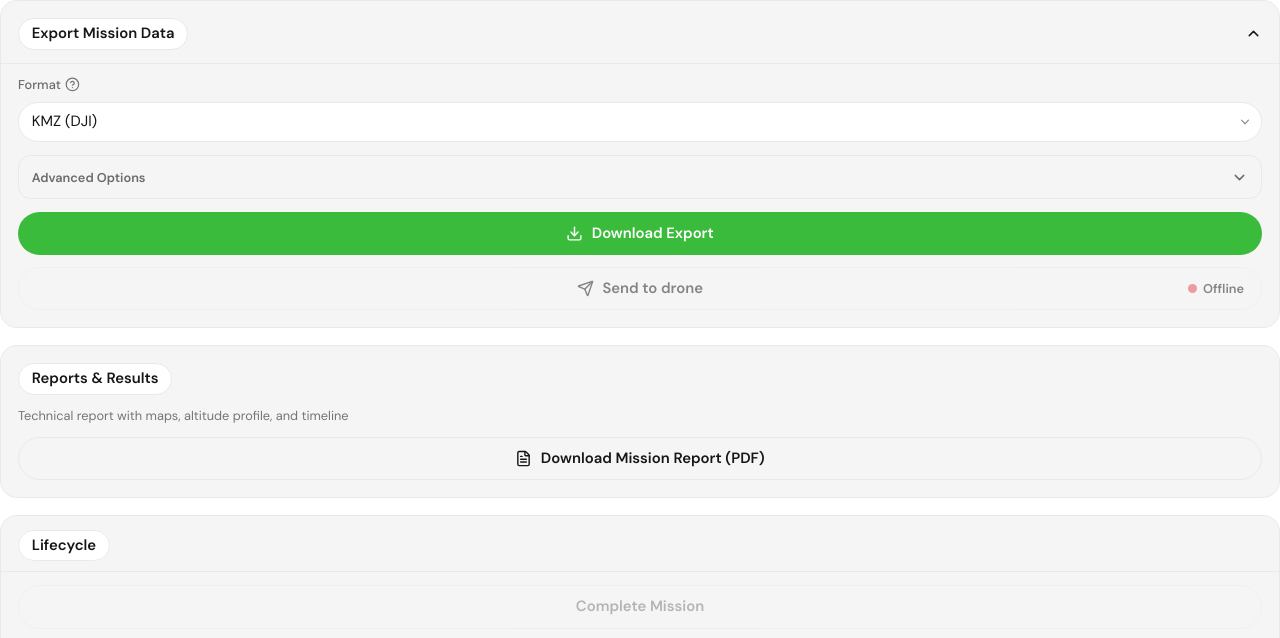
ExportPanel - geozones toggle › hides runway-buffers checkbox until geozones is on, then gates it on mavlink
The image size is (1280, 638).
Click the button with test id "advanced-options-toggle": (89, 177) [32,168,1248,186]
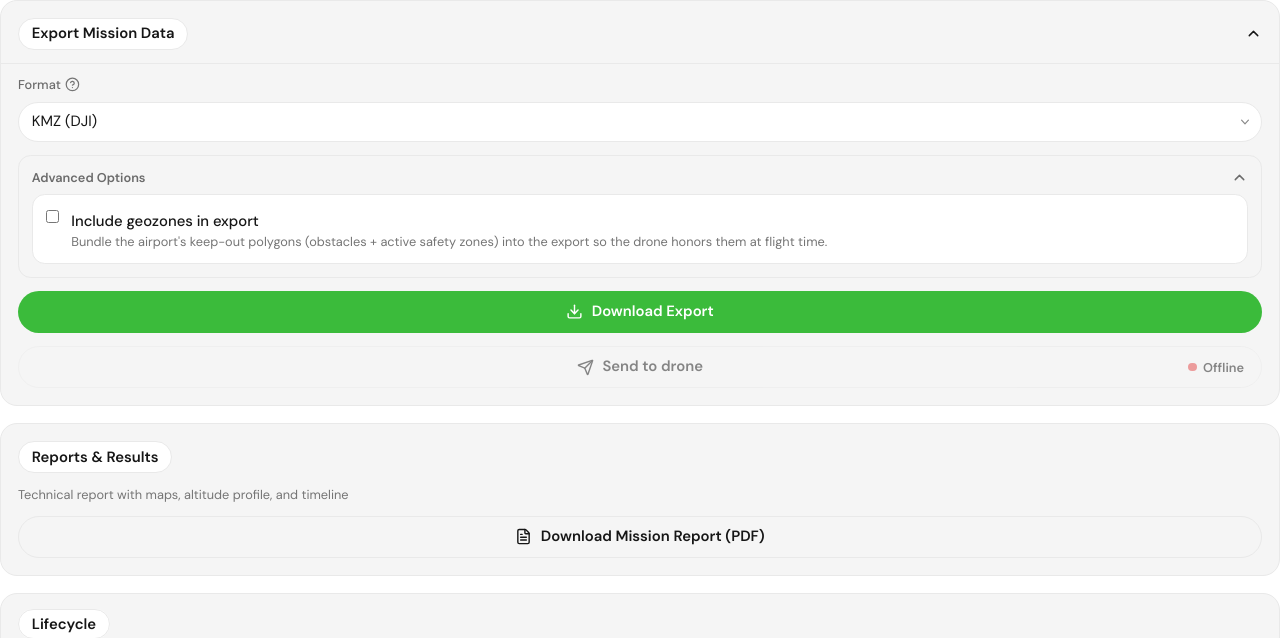
Click the checkbox with test id "include-geozones": (52, 216) [46,210,58,223]
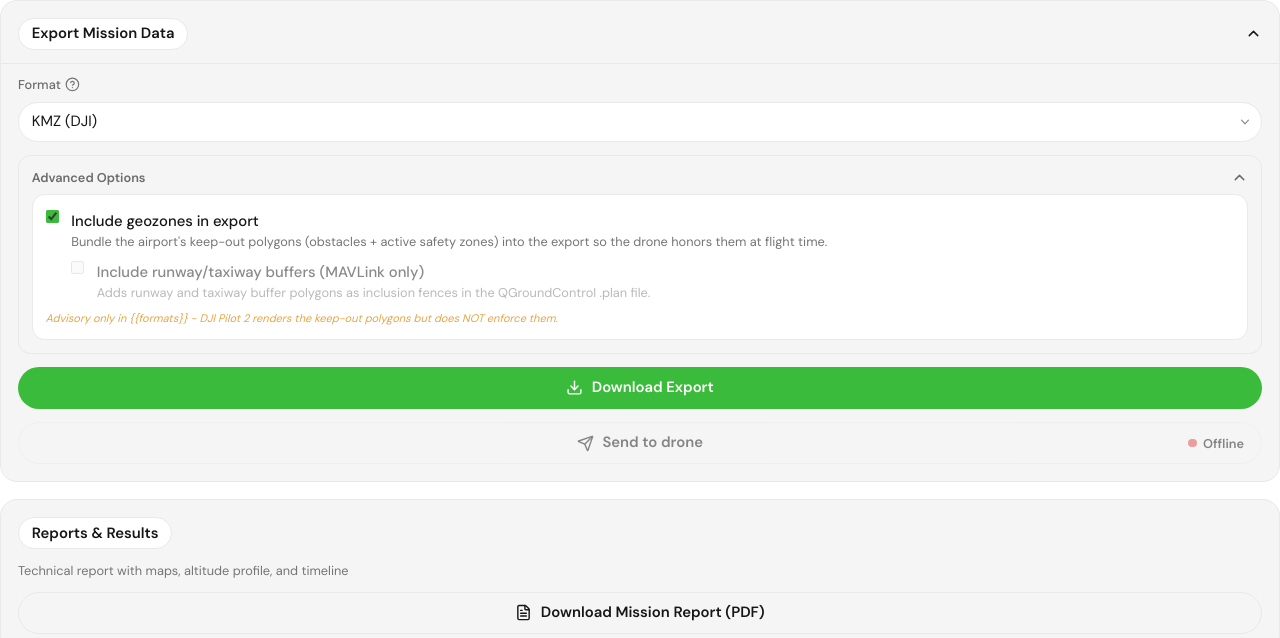
Select "MAVLink" in the dropdown with test id "format-select": (640, 122) [18,102,1262,142]
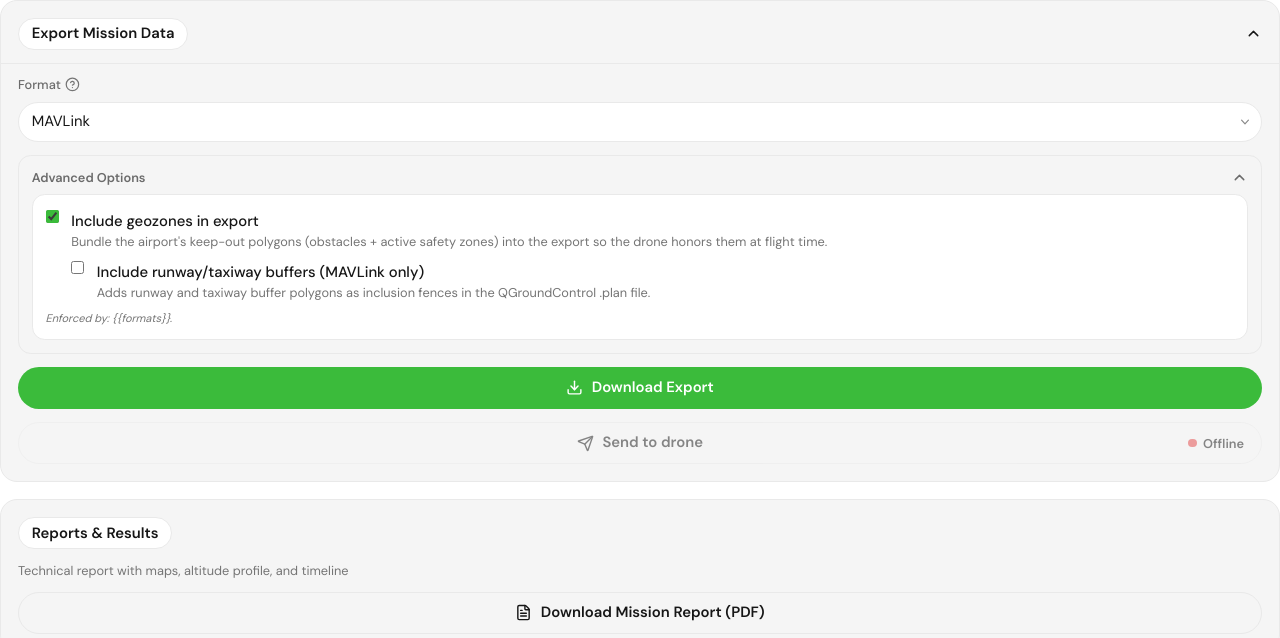
Expected: the checkbox with test id "include-runway-buffers" is enabled, [71,261,84,274]
Click the checkbox with test id "include-geozones": (52, 216) [46,210,58,223]
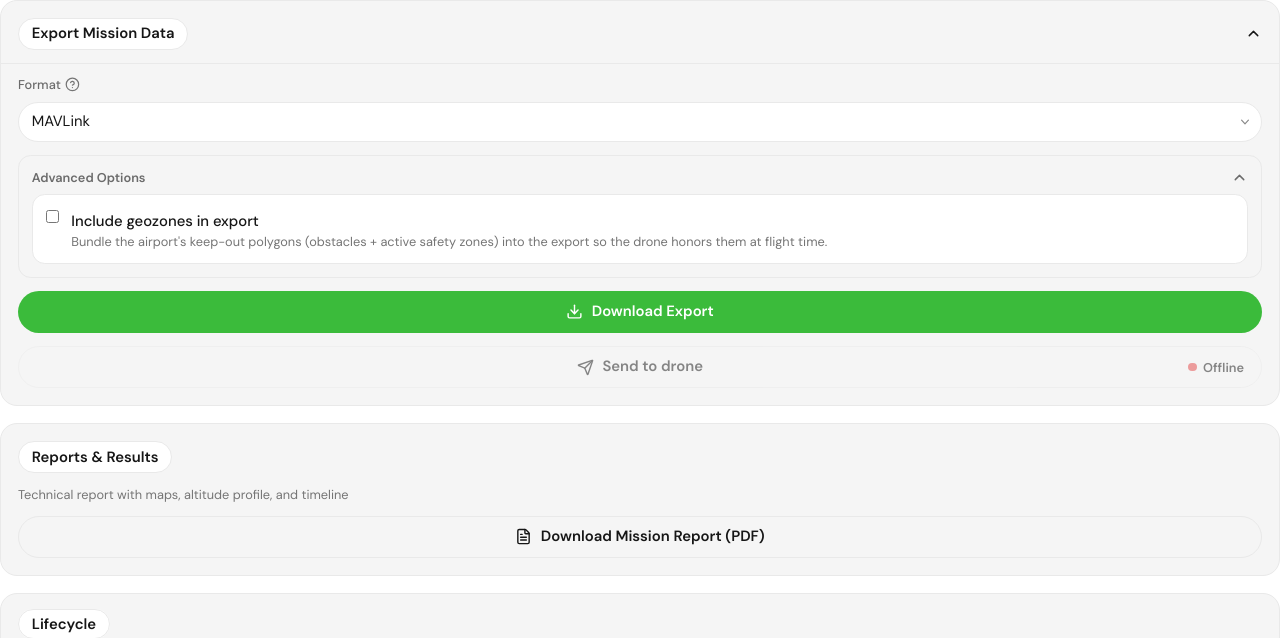
Expected: the checkbox with test id "include-runway-buffers" is gone
